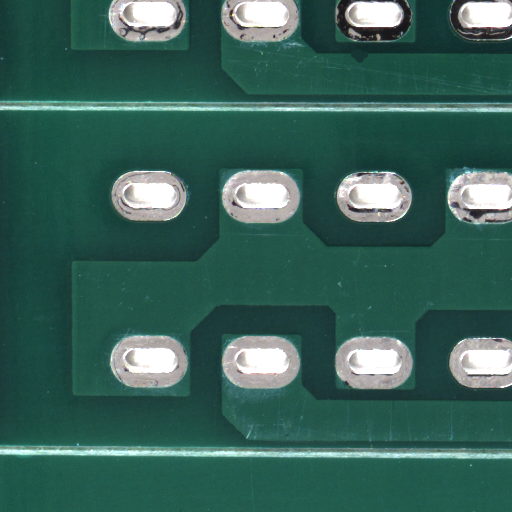Mouse_bite: (359, 57, 377, 71)
